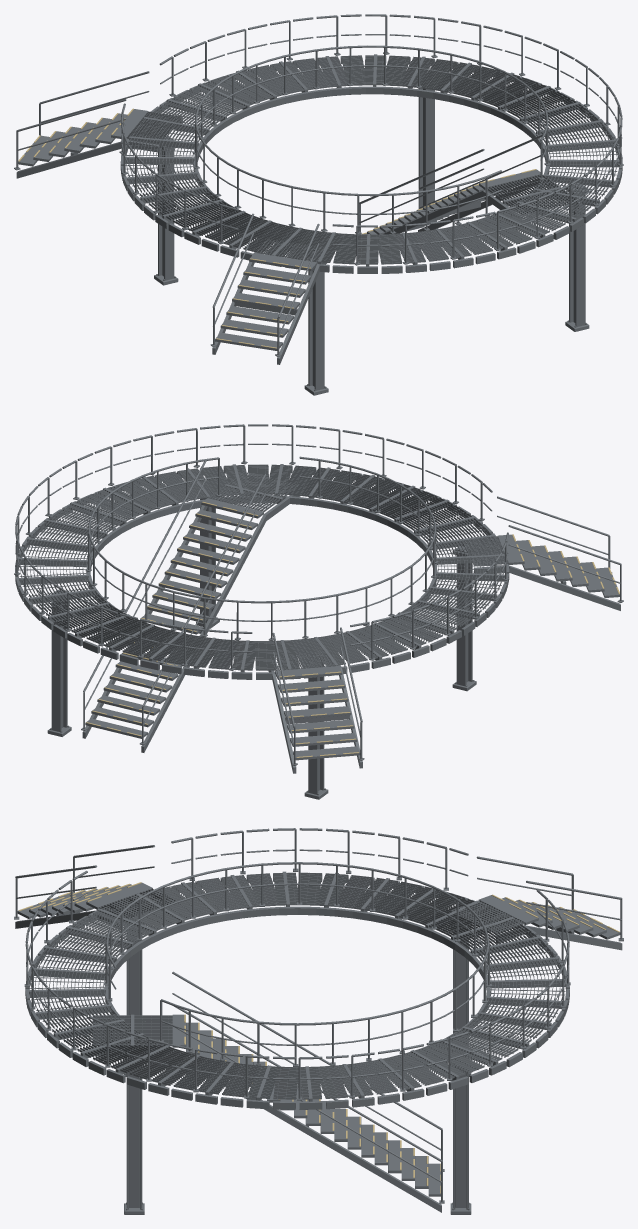
File: BN_W02_ServiceDeck_LOD1.fbx
3 renders of one model, top to bottom at view 1: azimuth 30°, elevation 25°; view 2: azimuth 150°, elevation 25°; view 3: azimuth 270°, elevation 25°, orthographic. The views are drawn at different scales.
Visible parts, largest first — view 1: BN_W02_ServiceDeck_LOD1; view 2: BN_W02_ServiceDeck_LOD1; view 3: BN_W02_ServiceDeck_LOD1.
Boxes of the visible parts, x1=… form: BN_W02_ServiceDeck_LOD1: x1=14, y1=14, x2=623, y2=395; BN_W02_ServiceDeck_LOD1: x1=14, y1=424, x2=623, y2=799; BN_W02_ServiceDeck_LOD1: x1=14, y1=828, x2=623, y2=1214.
Size of the model in its own units: 1253 by 480 by 1268.
